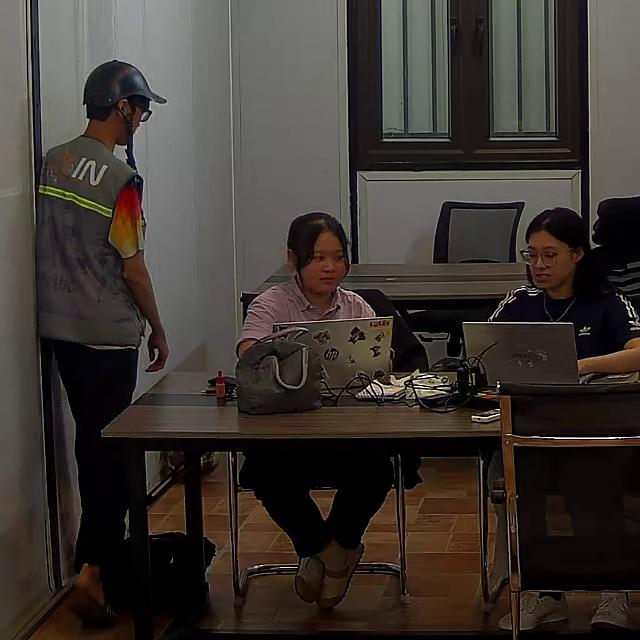helmet: (81, 59, 168, 109)
no_helmet: (523, 207, 612, 298), (286, 211, 351, 278)
none: (486, 282, 640, 365), (235, 275, 374, 361)
vest: (34, 134, 149, 345)
